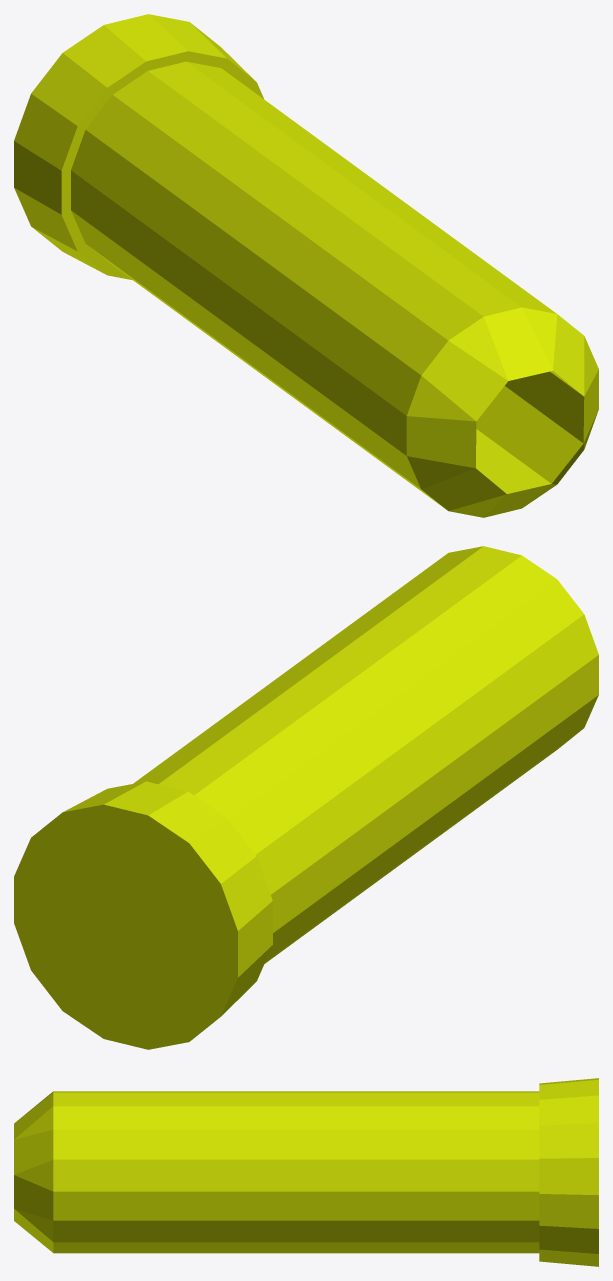
File: shell.fbx
3 views of the same model, one above another, from view 1: azimuth 30°, elevation 25°; view 2: azimuth 150°, elevation 25°; view 3: azimuth 270°, elevation 25° (orthographic). The views are drawn at different scales.
Parts seen in each view (by area): view 1: mesh; view 2: mesh; view 3: mesh.
Part boxes in pixels (bbox=[...]): mesh: bbox=[14, 14, 598, 517]; mesh: bbox=[14, 546, 598, 1049]; mesh: bbox=[14, 1078, 598, 1266].
Bounding box in the file's own units: 0.6404 × 0.6404 × 2.
